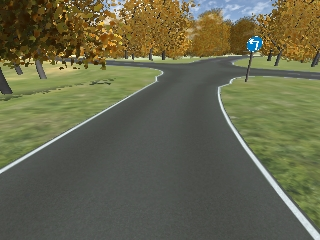left: (246, 36, 262, 52)
